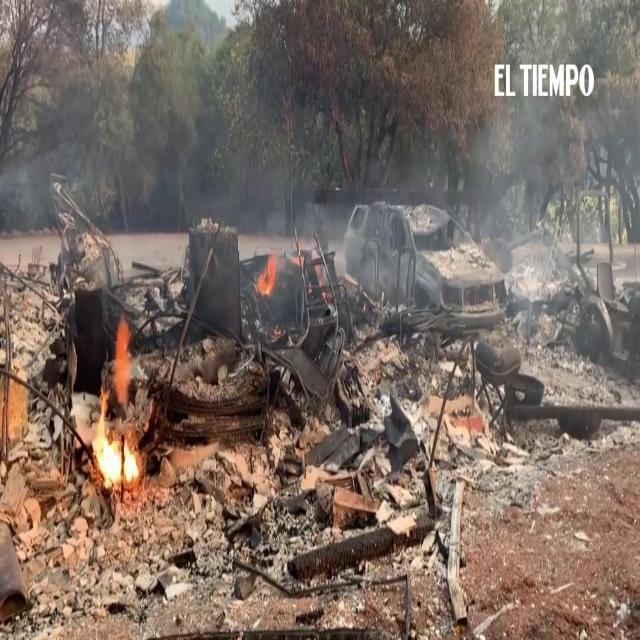Fire: (88, 405, 138, 483), (114, 323, 134, 399), (255, 252, 277, 296)
